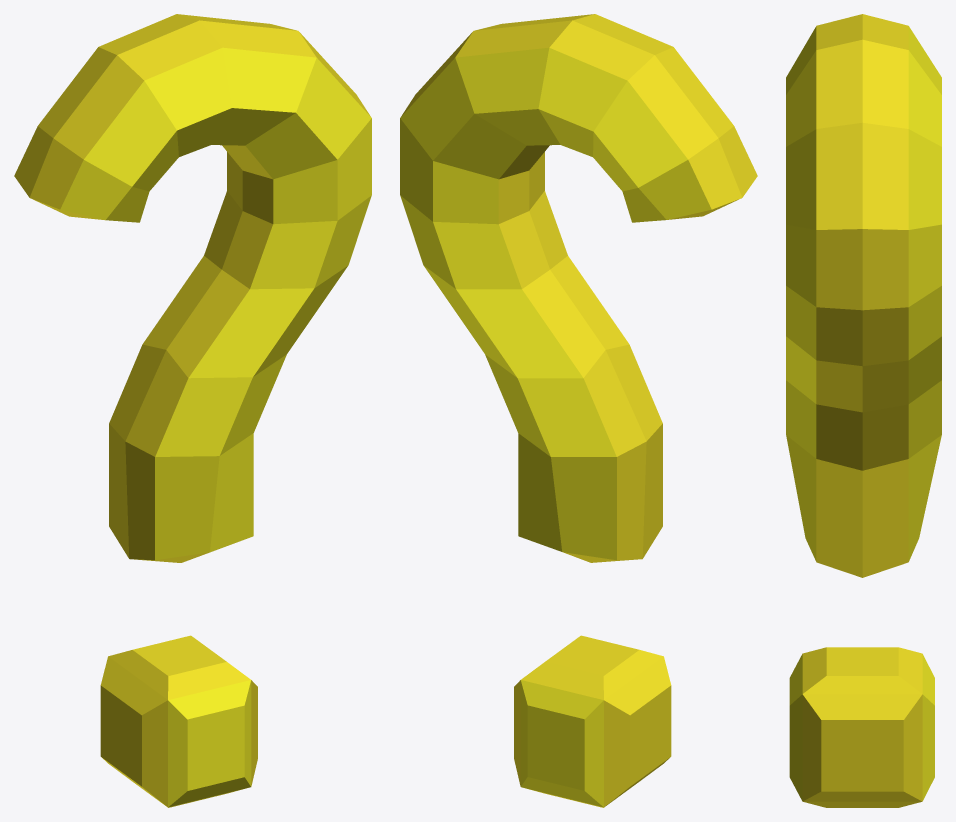
File: question_mark.fbx
3 views of the same model, side by side, from view 1: azimuth 30°, elevation 25°; view 2: azimuth 150°, elevation 25°; view 3: azimuth 270°, elevation 25° (orthographic).
Parts seen in each view (by area): view 1: question_mark; view 2: question_mark; view 3: question_mark.
Part boxes in pixels (left/top/right/bottom): question_mark: left=14, top=14, right=371, bottom=807; question_mark: left=400, top=14, right=757, bottom=807; question_mark: left=786, top=14, right=941, bottom=807.
Size of the model in its own units: 18.49 by 41.19 by 7.62.
